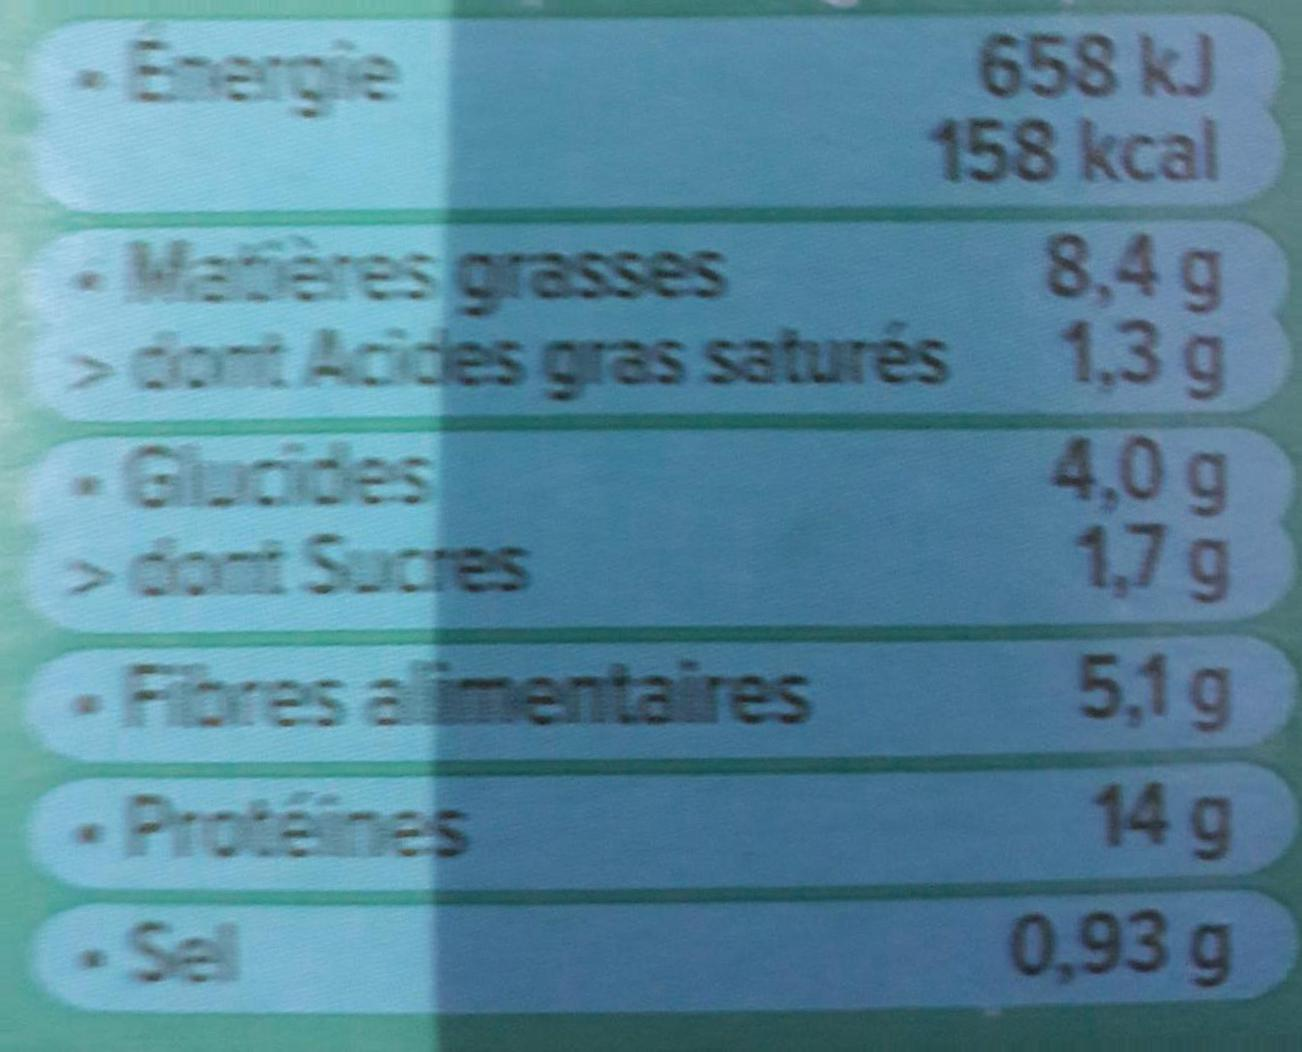column: (68, 30, 901, 997), (928, 31, 1242, 979)
table: (20, 15, 1302, 1022)
